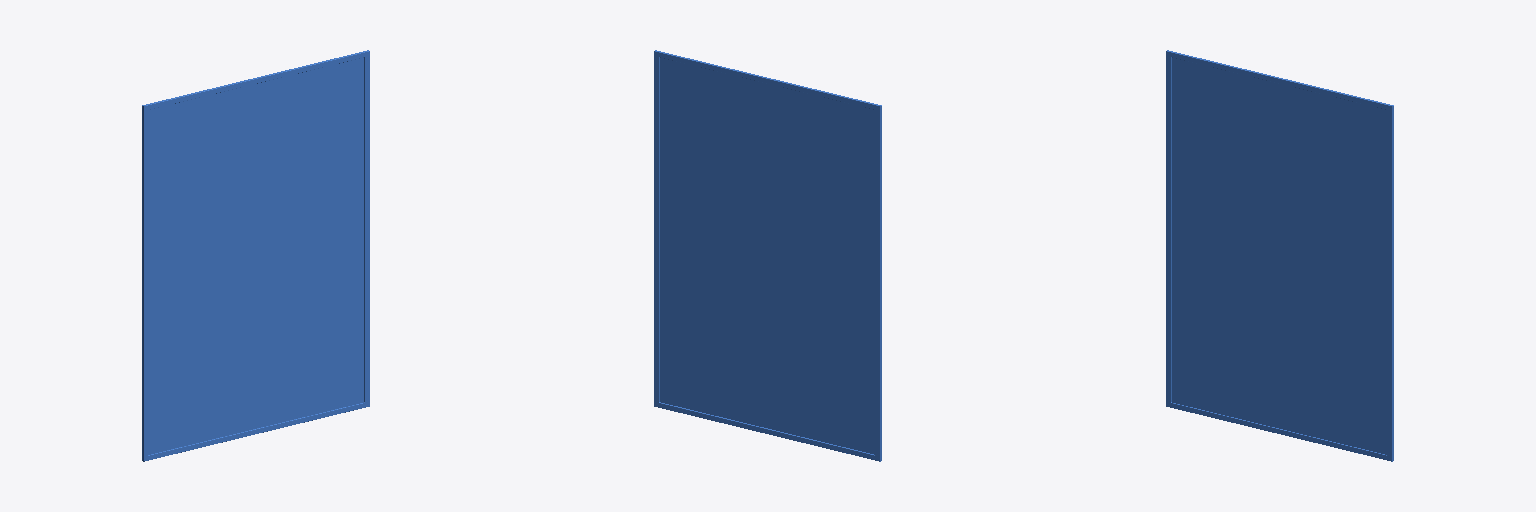
File: kartina015_.obj
The picture shows the model from 3 angles: view 1: azimuth 30°, elevation 25°; view 2: azimuth 150°, elevation 25°; view 3: azimuth 330°, elevation 25°; orthographic projection.
Visible parts, largest first — view 1: Line001; view 2: Line001; view 3: Line001.
Boxes of the visible parts, box(x1,y1,x2,y2) form: Line001: box(142, 50, 369, 461); Line001: box(654, 50, 881, 461); Line001: box(1166, 50, 1393, 461).
Bounding box in the file's own units: 1129 × 1696 × 12.08.